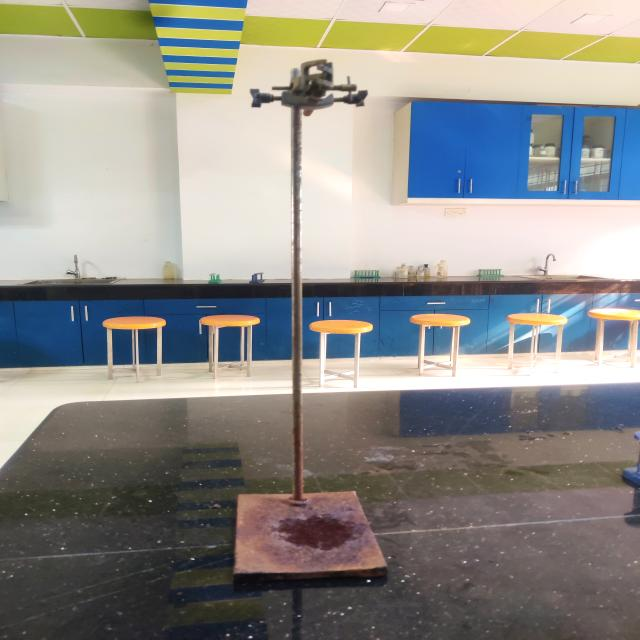Burette_Stands: (192, 50, 433, 610)
